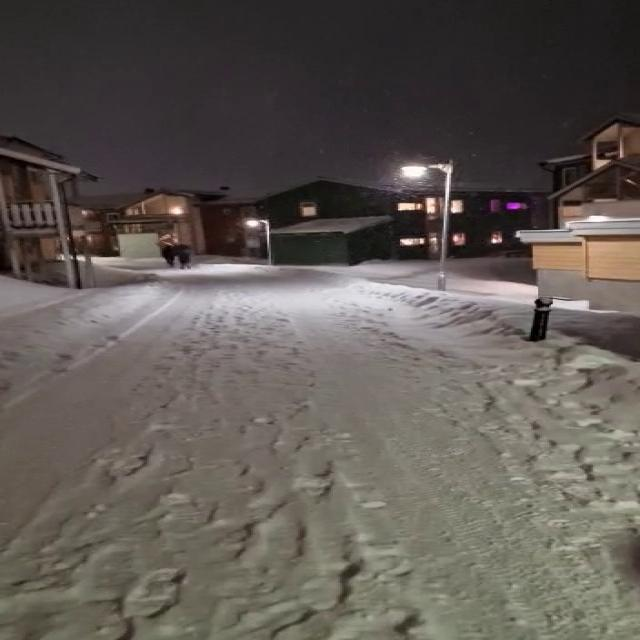path: (0, 267, 640, 640)
